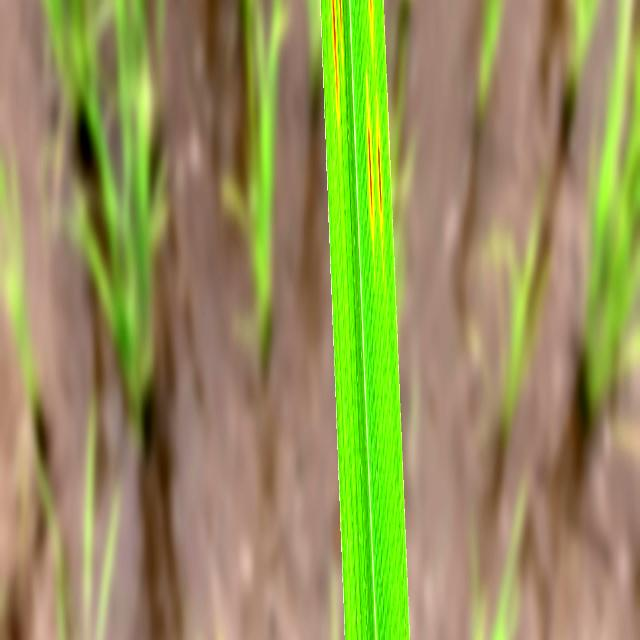NBS: (331, 0, 339, 118), (368, 106, 374, 235), (377, 120, 383, 235), (339, 0, 343, 53), (369, 0, 372, 42)
